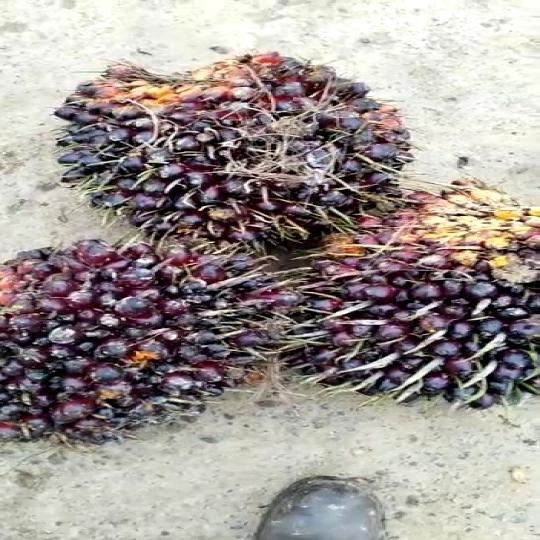kurang masak: (53, 47, 453, 228), (0, 239, 331, 442), (317, 189, 540, 392)
